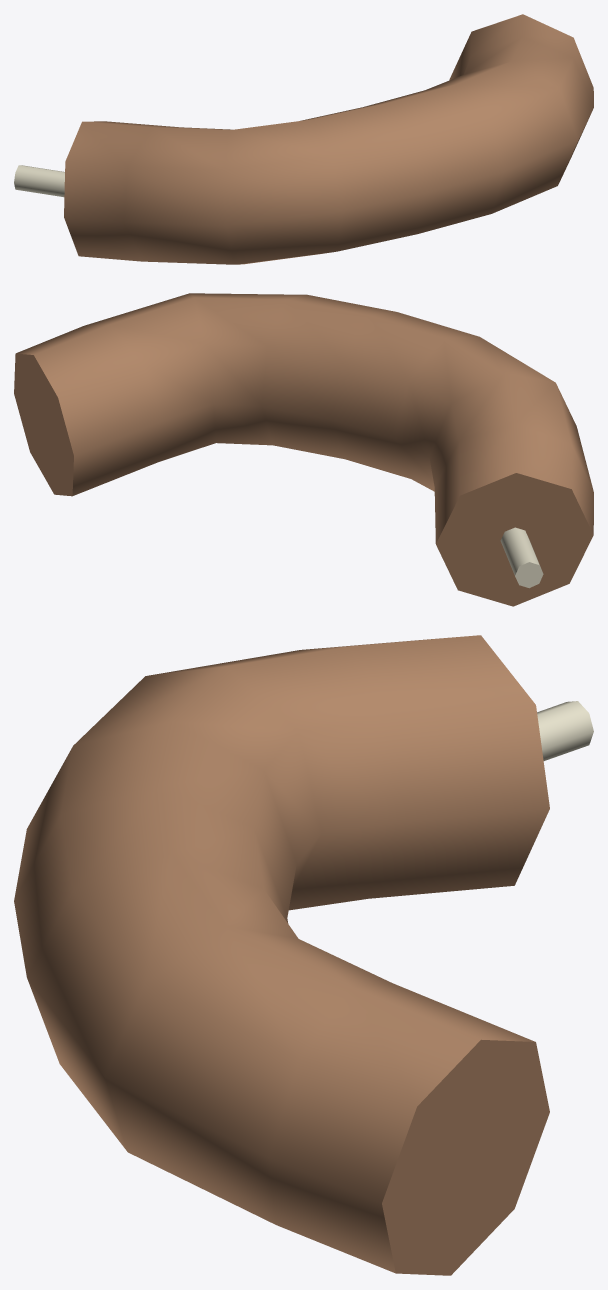
File: survival-food-and-preservation-smoked-sausage-10f9c18c.glb
The picture shows the model from 3 angles, top to bottom: view 1: azimuth 30°, elevation 25°; view 2: azimuth 150°, elevation 25°; view 3: azimuth 270°, elevation 25°; orthographic projection. The views are drawn at different scales.
Visible parts, largest first — view 1: smoked-sausage; view 2: smoked-sausage; view 3: smoked-sausage.
Part boxes in pixels (x1,y1,x2,y2): smoked-sausage: [14, 14, 593, 264]; smoked-sausage: [14, 293, 593, 606]; smoked-sausage: [14, 635, 593, 1275].
Bounding box in the file's own units: 0.1854 × 0.0527 × 0.0931.
